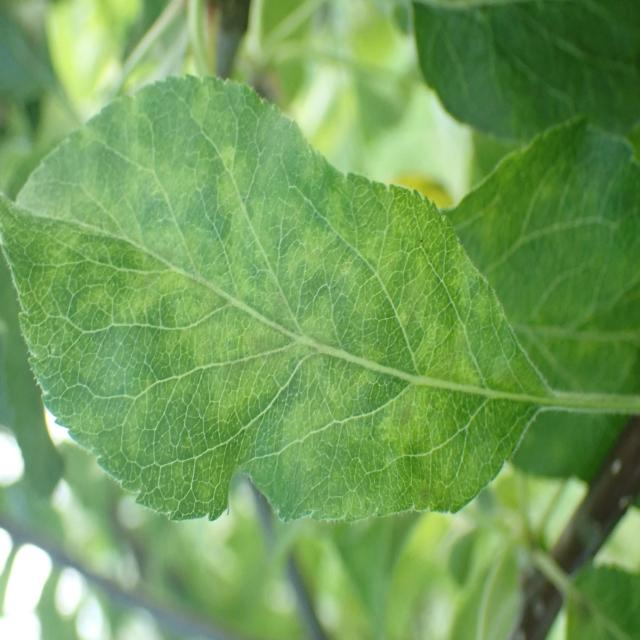scab: (32, 126, 500, 522)
